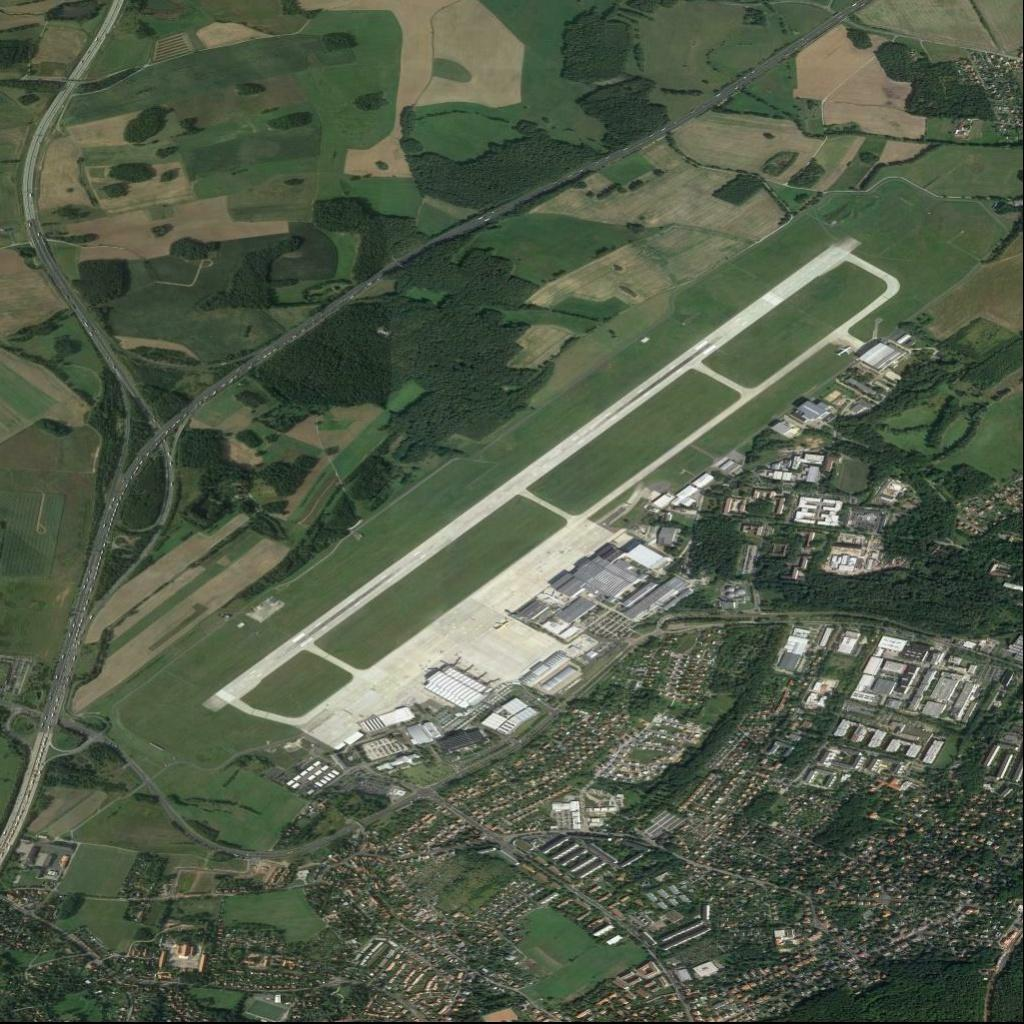plane: (833, 342, 855, 360)
